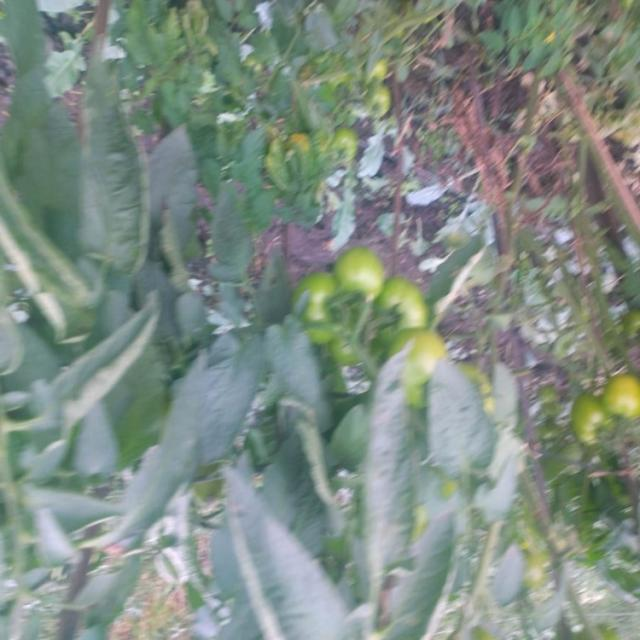tomato: (322, 220, 412, 325), (298, 244, 358, 365), (383, 300, 459, 384), (371, 265, 432, 356), (595, 346, 640, 435), (561, 381, 613, 455), (361, 82, 405, 128), (326, 123, 366, 169)
